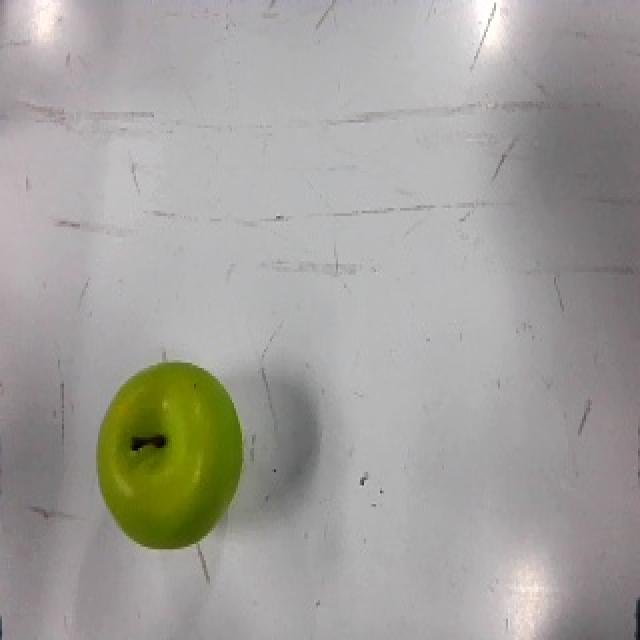apple: (95, 357, 245, 550)
